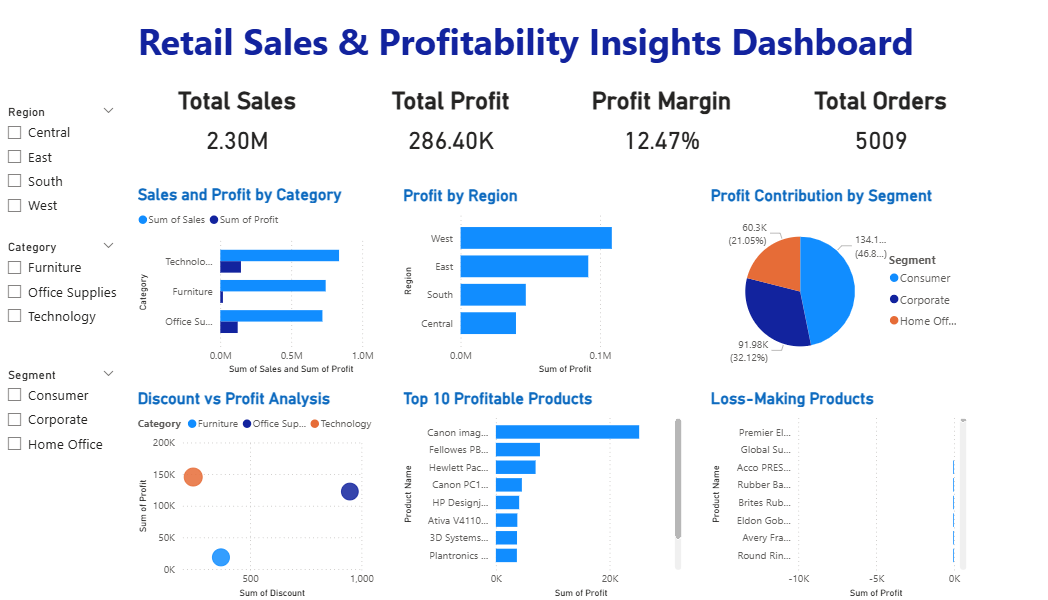

This screenshot's page, from the dashboard's own definition file:
{"tool":"powerbi","page":{"name":"Page 1","canvas":[1280,720],"ordinal":0},"visuals":[{"type":"card","title":"Total Sales","fields":{"Values":["Sum(Sheet1.Sales)"]},"box":[208.9,107.1,153.6,91.1],"z":0},{"type":"card","title":"Total Profit","fields":{"Values":["Sum(Sheet1.Profit)"]},"box":[453.6,107.1,173.2,91.1],"z":1},{"type":"card","title":"Total Orders","fields":{"Values":["Sheet1.Total Orders"]},"box":[964.3,107.1,175,91.1],"z":3},{"type":"clusteredBarChart","title":"Sales and Profit by Category","fields":{"Category":["Sheet1.Category"],"Y":["Sum(Sheet1.Sales)","Sum(Sheet1.Profit)"]},"box":[162.5,223.2,291.1,230.4],"z":4},{"type":"clusteredBarChart","title":"Profit by Region","fields":{"Category":["Sheet1.Region"],"Y":["Sum(Sheet1.Profit)"]},"box":[478.6,225,341.1,228.6],"z":5},{"type":"pieChart","title":"Profit Contribution by Segment","fields":{"Category":["Sheet1.Segment"],"Y":["Sum(Sheet1.Profit)"]},"box":[844.6,225,314.3,228.6],"z":6},{"type":"clusteredBarChart","title":"Top 10 Profitable Products","fields":{"Category":["Sheet1.Product Name"],"Y":["Sum(Sheet1.Profit)"]},"box":[478.6,466.1,341.1,253.6],"z":7},{"type":"clusteredBarChart","title":"Loss-Making Products","fields":{"Category":["Sheet1.Product Name"],"Y":["Sum(Sheet1.Profit)"]},"box":[844.6,466.1,314.3,253.6],"z":8},{"type":"scatterChart","title":"Discount vs Profit Analysis","fields":{"X":["Sum(Sheet1.Discount)"],"Y":["Sum(Sheet1.Profit)"],"Size":["Sum(Sheet1.Sales)"],"Series":["Sheet1.Category"]},"box":[162.5,466.1,291.1,253.6],"z":9},{"type":"slicer","fields":{"Values":["Sheet1.Region"]},"box":[0,123.2,151.8,150],"z":10},{"type":"slicer","fields":{"Values":["Sheet1.Category"]},"box":[0,283.9,151.8,151.8],"z":11},{"type":"slicer","fields":{"Values":["Sheet1.Segment"]},"box":[0,435.7,151.8,150],"z":12},{"type":"textbox","box":[100,17.9,1058.9,69.6],"z":13},{"type":"card","title":"Profit Margin","fields":{"Values":["Sheet1.Profit Margin"]},"box":[700,107.1,182.1,91.1],"z":14}]}

Visuals, with their boxes in screenshot pixels (x1, y1, x2, y2), scaled from the page's 1280x720 canvas onto the 1048x600 screenshot:
"Total Sales" card: {"left": 171, "top": 89, "right": 297, "bottom": 165}
"Total Profit" card: {"left": 371, "top": 89, "right": 513, "bottom": 165}
"Total Orders" card: {"left": 790, "top": 89, "right": 933, "bottom": 165}
"Sales and Profit by Category" clusteredBarChart: {"left": 133, "top": 186, "right": 371, "bottom": 378}
"Profit by Region" clusteredBarChart: {"left": 392, "top": 188, "right": 671, "bottom": 378}
"Profit Contribution by Segment" pieChart: {"left": 692, "top": 188, "right": 949, "bottom": 378}
"Top 10 Profitable Products" clusteredBarChart: {"left": 392, "top": 388, "right": 671, "bottom": 599}
"Loss-Making Products" clusteredBarChart: {"left": 692, "top": 388, "right": 949, "bottom": 599}
"Discount vs Profit Analysis" scatterChart: {"left": 133, "top": 388, "right": 371, "bottom": 599}
slicer - Sheet1.Region: {"left": 0, "top": 103, "right": 124, "bottom": 228}
slicer - Sheet1.Category: {"left": 0, "top": 237, "right": 124, "bottom": 363}
slicer - Sheet1.Segment: {"left": 0, "top": 363, "right": 124, "bottom": 488}
textbox: {"left": 82, "top": 15, "right": 949, "bottom": 73}
"Profit Margin" card: {"left": 573, "top": 89, "right": 722, "bottom": 165}
